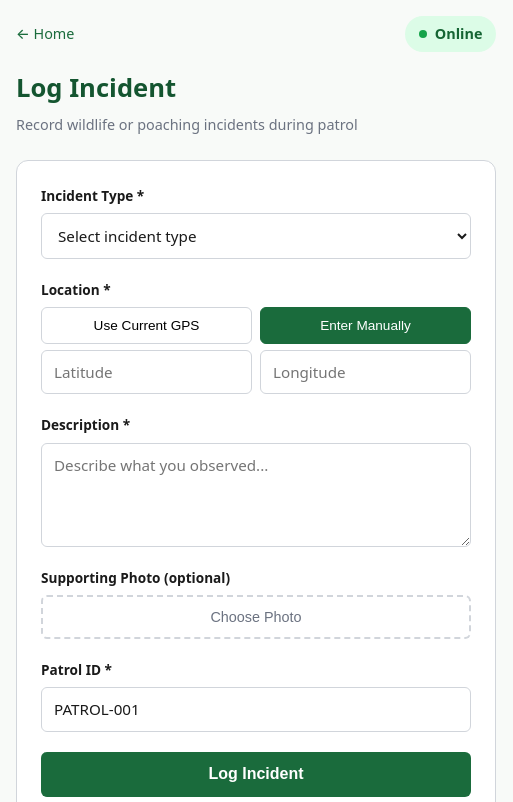
RangerPortal › shows success message on successful online submit
Select "Snare" in the dropdown labelled "Incident Type *" at (256, 236), box [41,213,471,259]
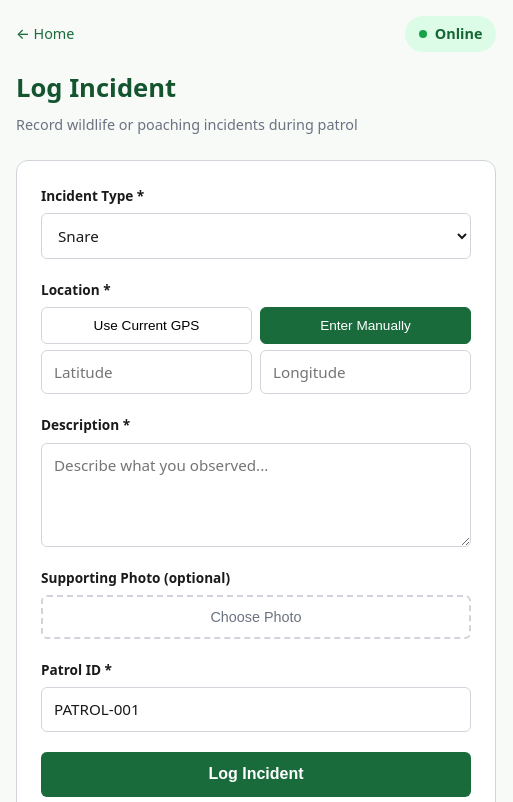
Type "Test snare" into the text box labelled "Description *" at (256, 495), box [41,443,471,547]
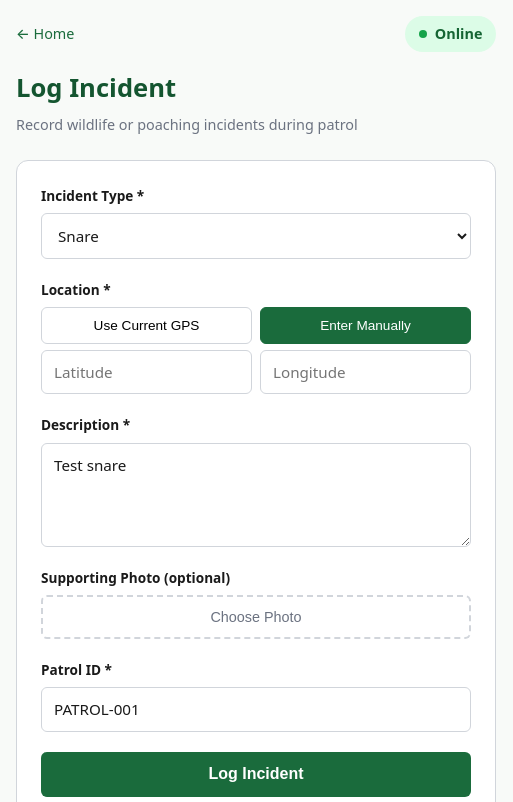
Type "6.5" into the number field with placeholder "Latitude" at (146, 372), box [41,350,252,394]
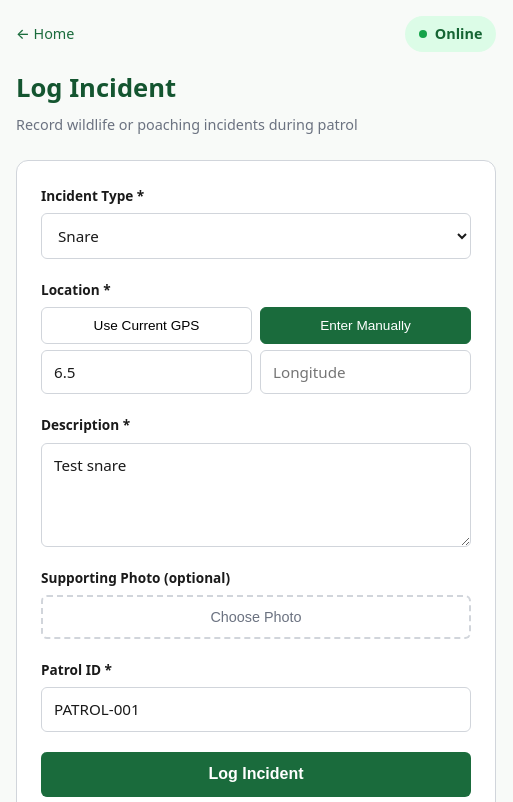
Type "80.0" into the number field with placeholder "Longitude" at (366, 372), box [260,350,471,394]
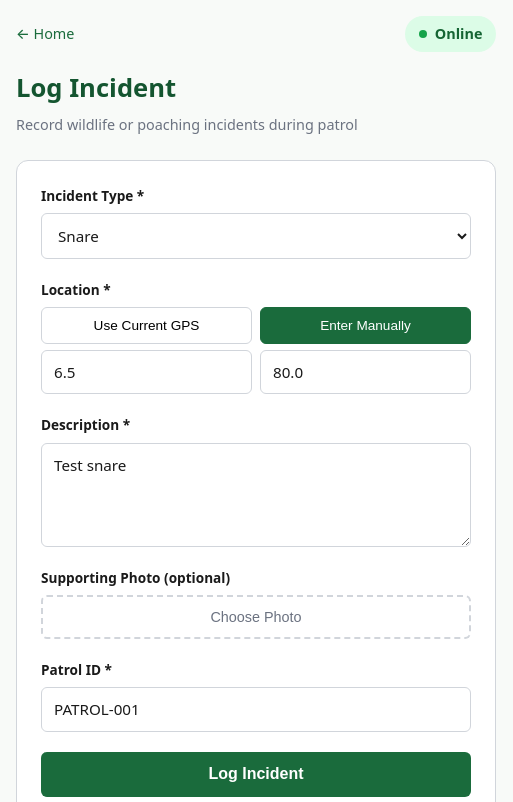
Click the button "Log Incident" at (256, 774), box [41,752,471,797]
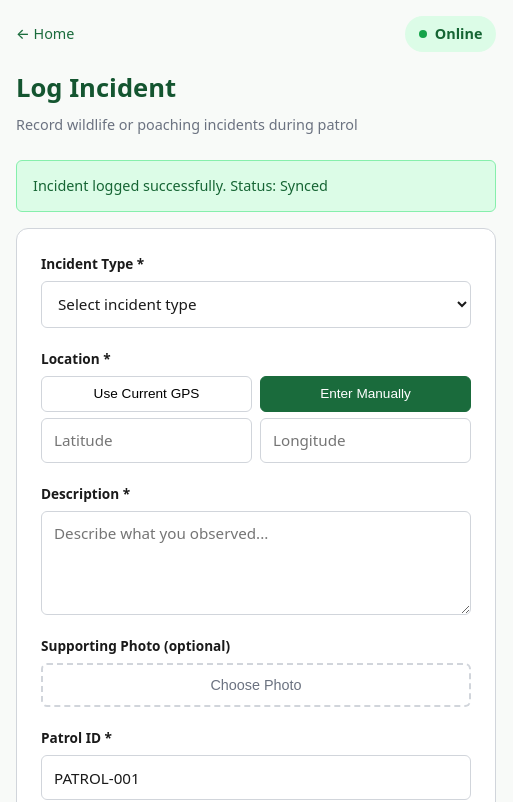
Now the text "Incident logged successfully. Status: Synced" is shown, box [16,160,496,212]
